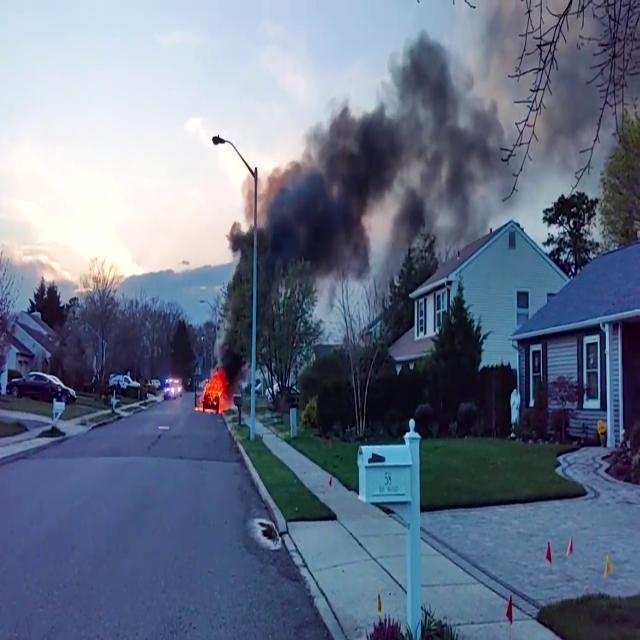Fire: (200, 372, 234, 415)
Smoke: (221, 19, 507, 364)
